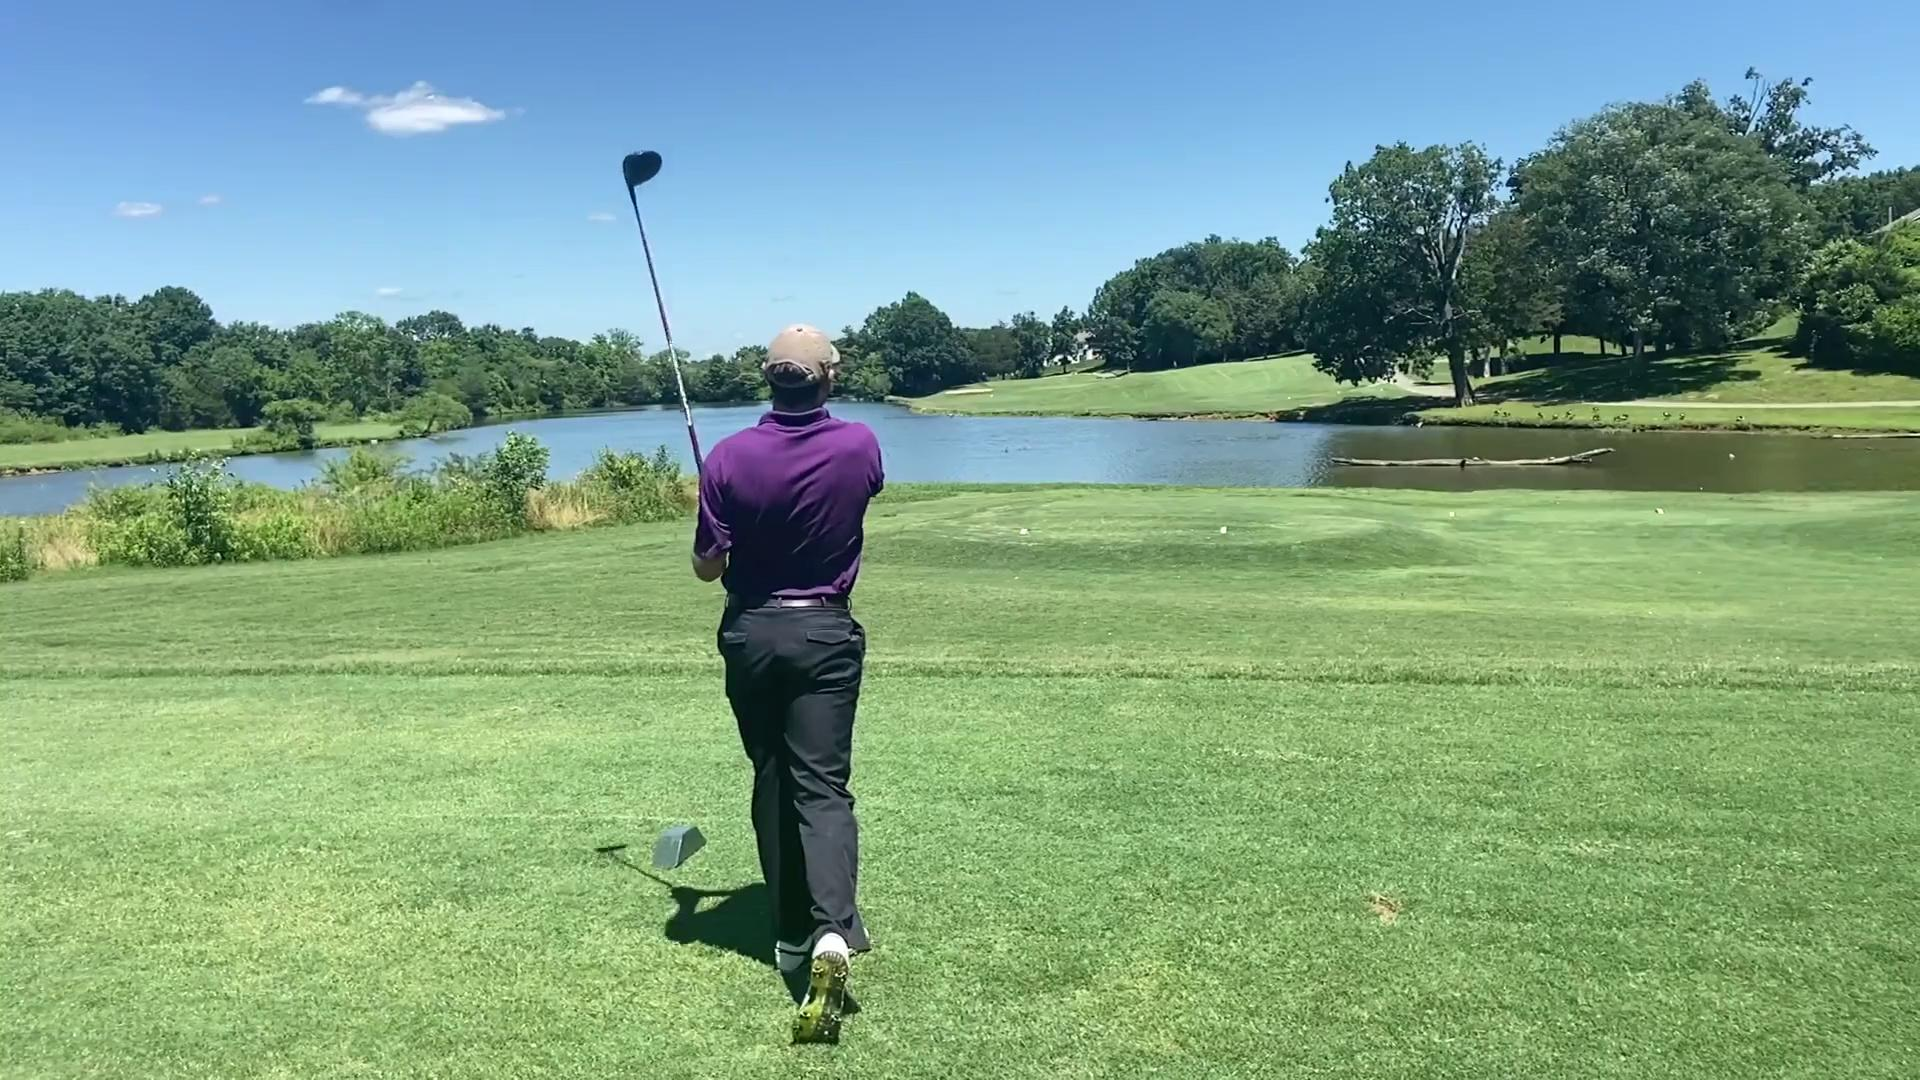ClubHead: (618, 148, 665, 200)
